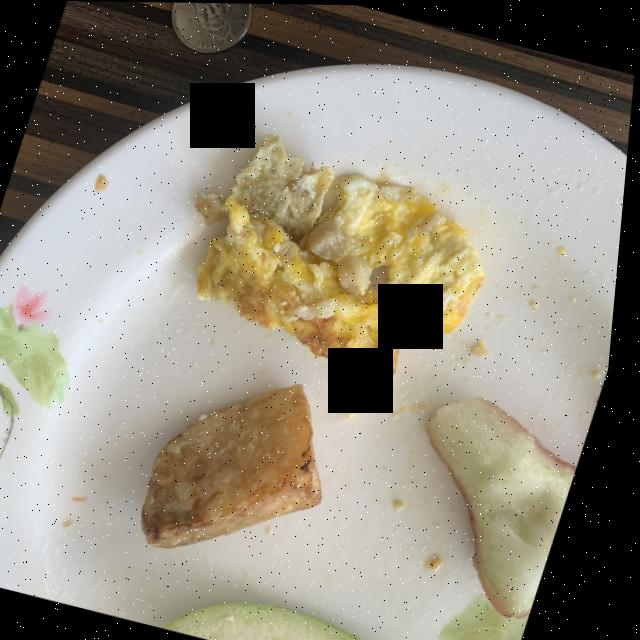coin: (170, 2, 251, 52)
fried potato: (149, 382, 330, 547)
guava -sliced-: (173, 602, 376, 640)
